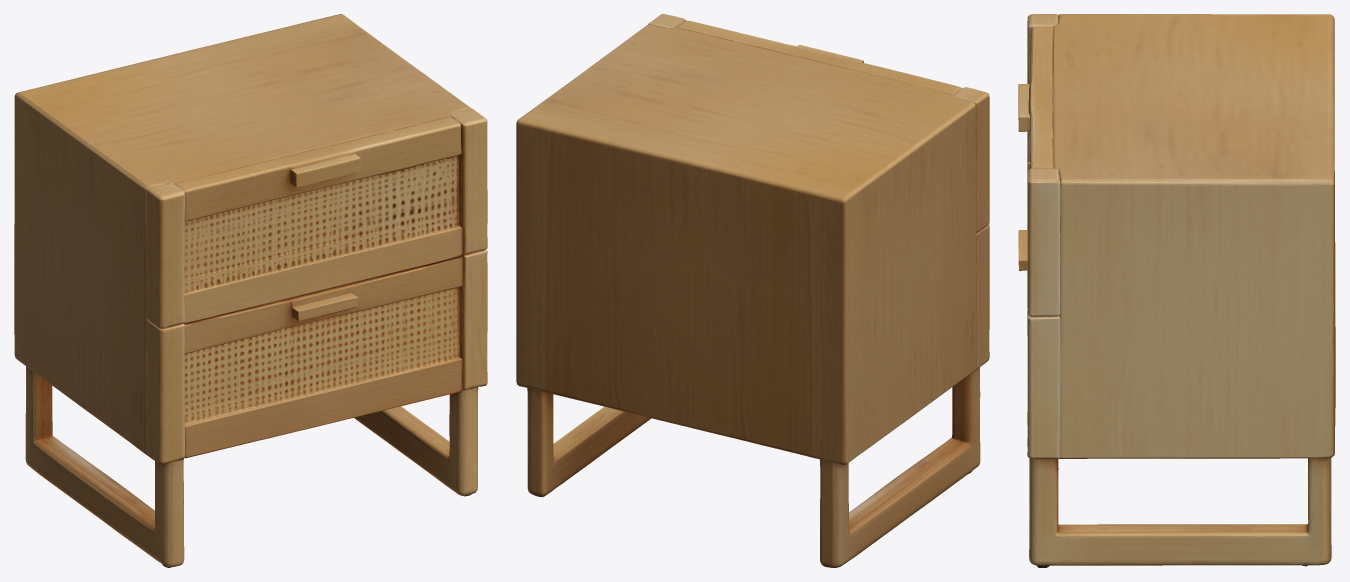
File: BURO BEJUCO juco.glb
The picture shows the model from 3 angles, left to right: view 1: azimuth 30°, elevation 25°; view 2: azimuth 150°, elevation 25°; view 3: azimuth 270°, elevation 25°; orthographic projection. The views are drawn at different scales.
Visible parts, largest first — view 1: world; view 2: world; view 3: world.
Part boxes in pixels (x1,y1,x2,y2): world: (14, 14, 487, 567); world: (516, 14, 989, 567); world: (1018, 14, 1335, 567).
Bounding box in the file's own units: 0.5 × 0.55 × 0.4.
Materials: 1 (1 with a texture image).
